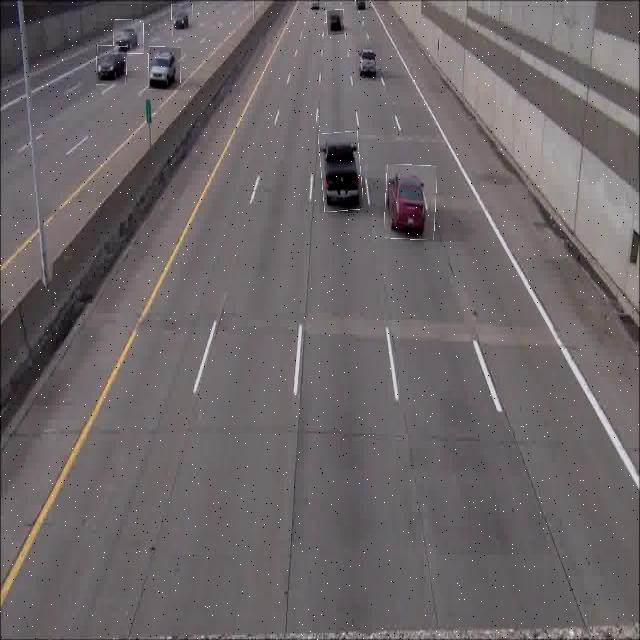Car: (385, 165, 436, 239), (149, 47, 181, 90), (96, 46, 127, 85), (114, 20, 144, 54), (356, 43, 382, 81), (172, 4, 193, 36), (327, 10, 344, 35)
Truck: (319, 132, 362, 212)
